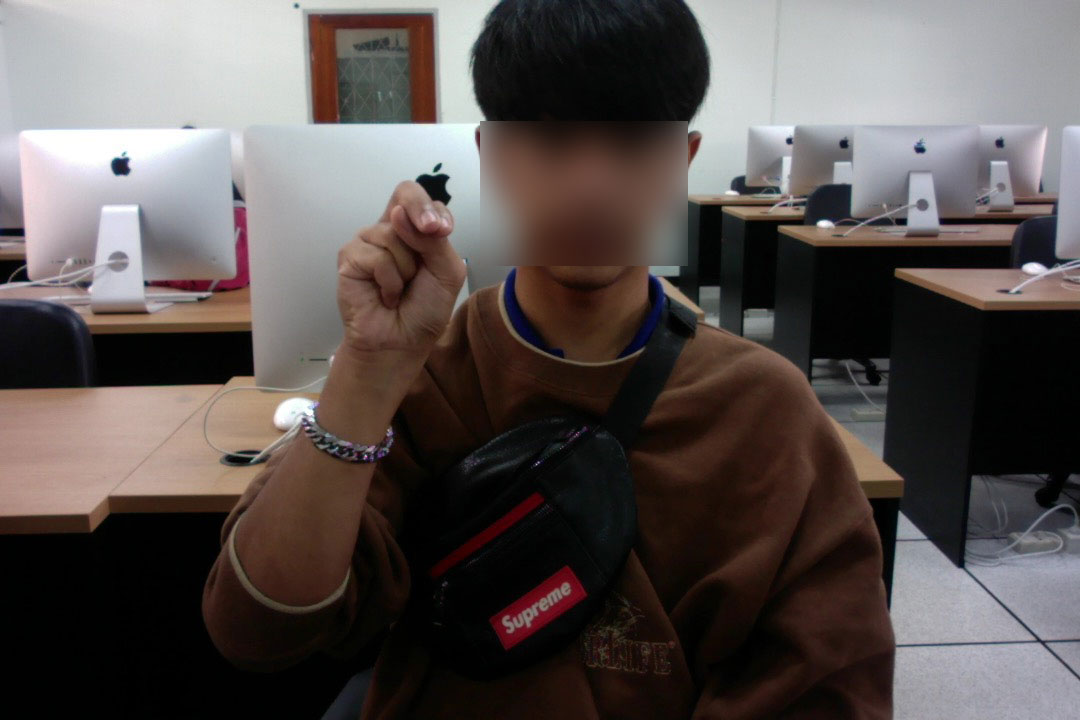nor: (328, 174, 471, 401)
